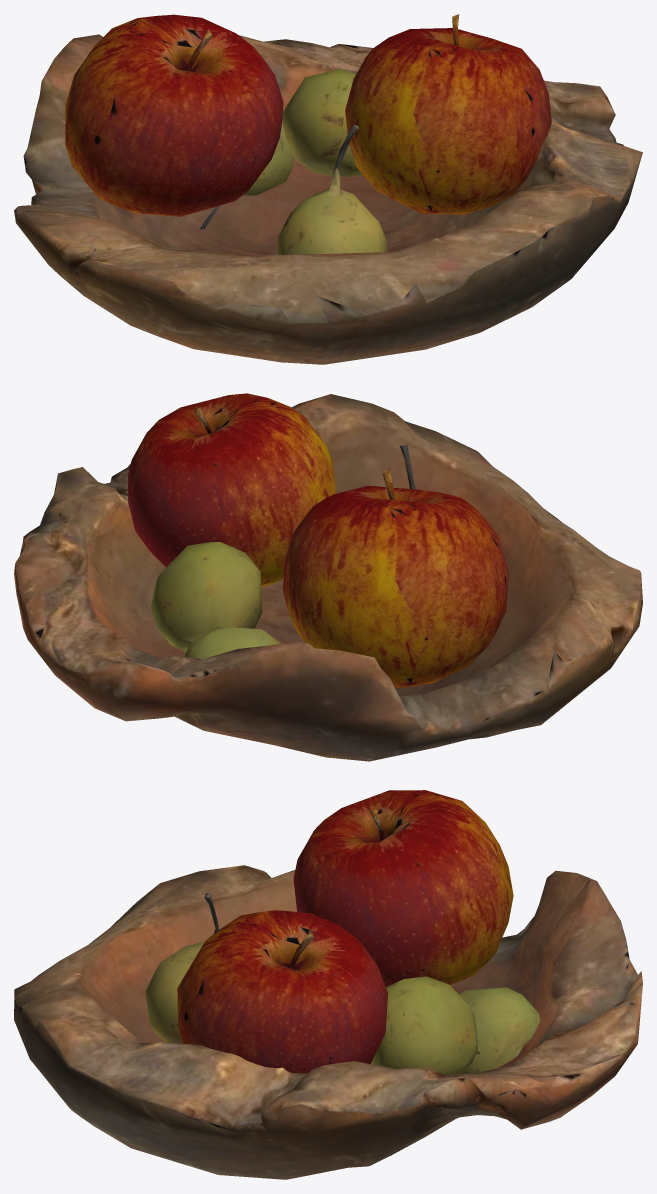
The model's file is feast_fruit.glb.
3 views of the same model, one above another, from view 1: azimuth 30°, elevation 25°; view 2: azimuth 150°, elevation 25°; view 3: azimuth 270°, elevation 25° (orthographic). The views are drawn at different scales.
Visible parts, largest first — view 1: feast_fruit; view 2: feast_fruit; view 3: feast_fruit.
Part boxes in pixels (x1,y1,x2,y2): feast_fruit: (14, 14, 642, 364); feast_fruit: (14, 393, 642, 761); feast_fruit: (14, 790, 642, 1179).
Size of the model in its own units: 0.2505 by 0.1112 by 0.2471.
3 materials, 3 textured.
